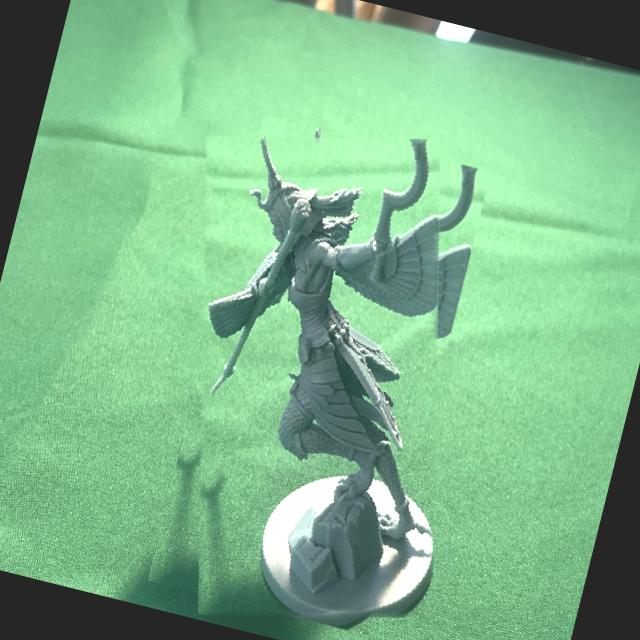isis: (120, 99, 518, 640)
